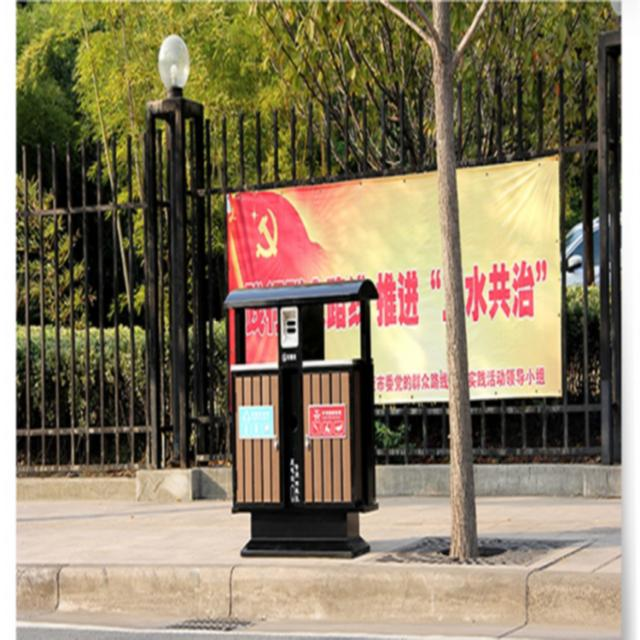ash bin: (221, 276, 381, 559)
pole: (427, 0, 479, 559)
